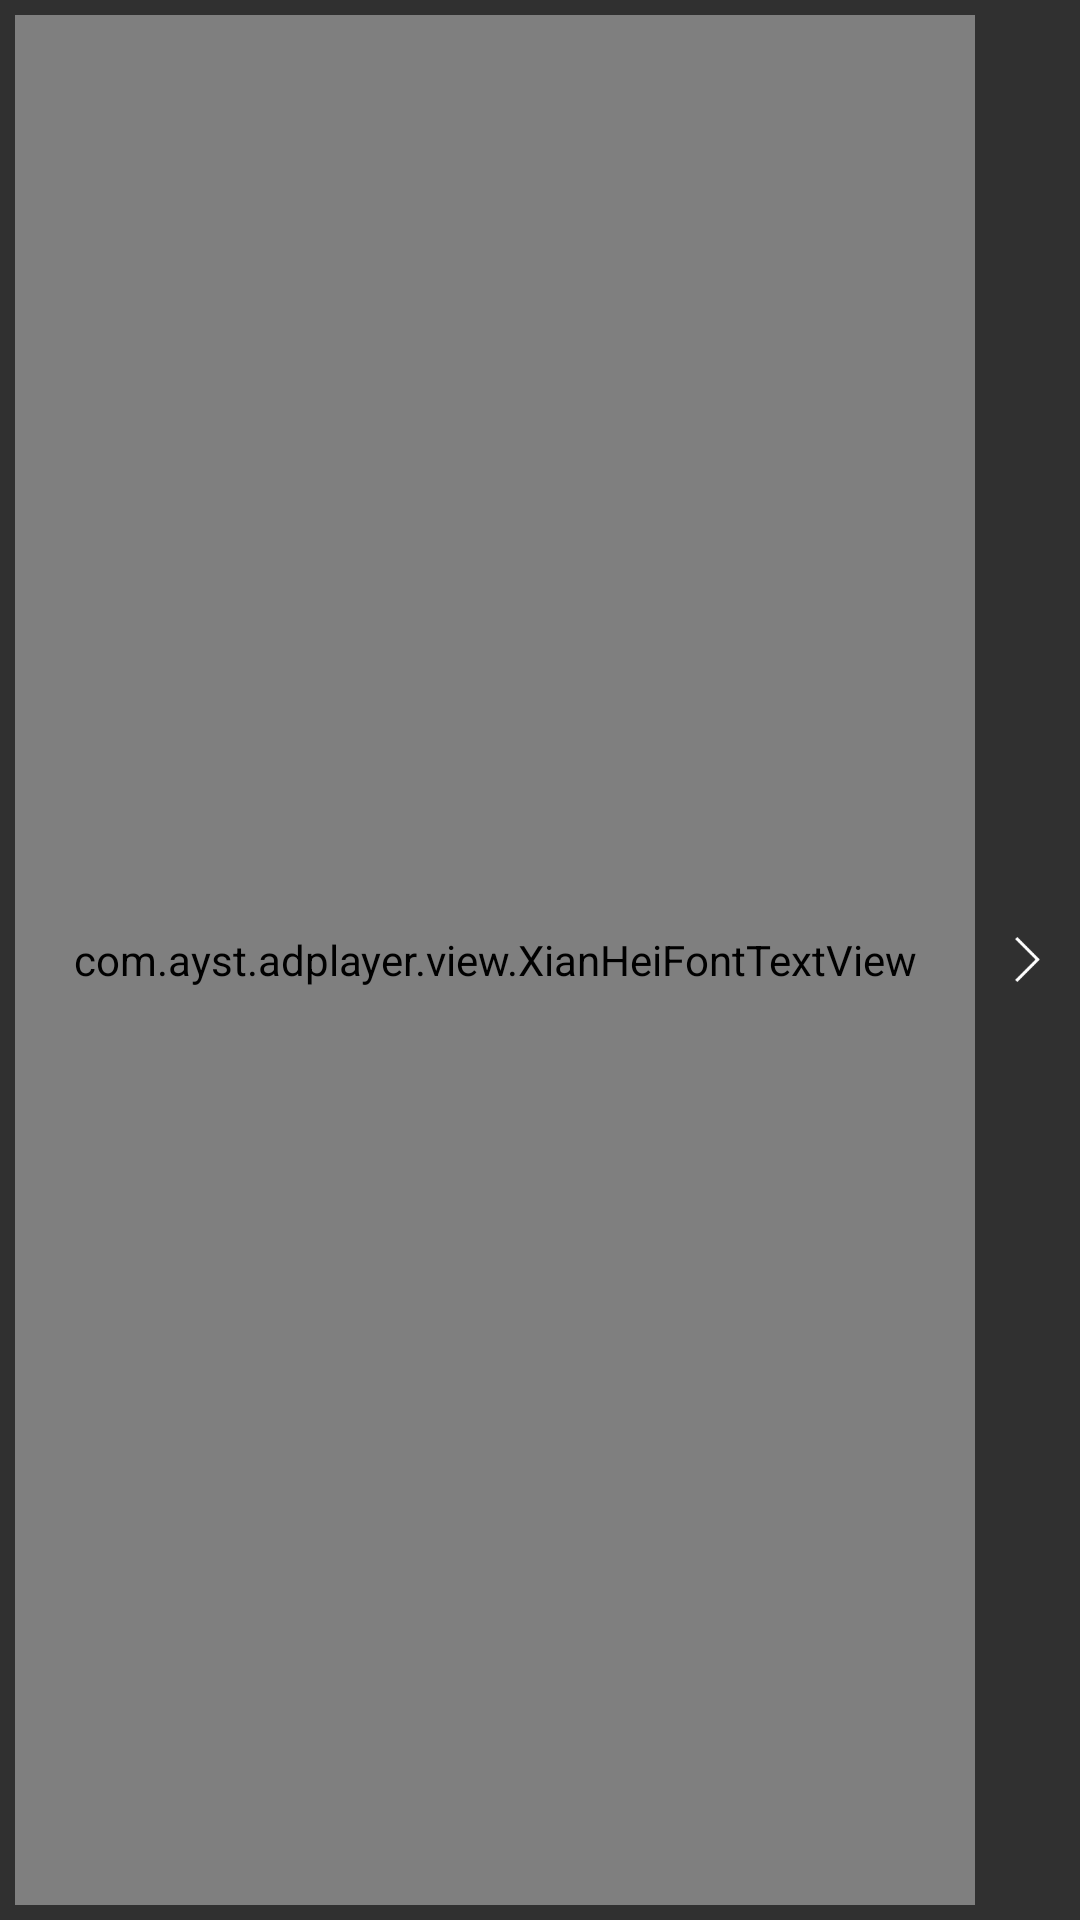

Where icons sit on this 1080px x 1920px app screen, as {"x1": x1, "y1": y1, "x2": x2, "y2": y2}:
right: {"x1": 1015, "y1": 937, "x2": 1040, "y2": 982}
